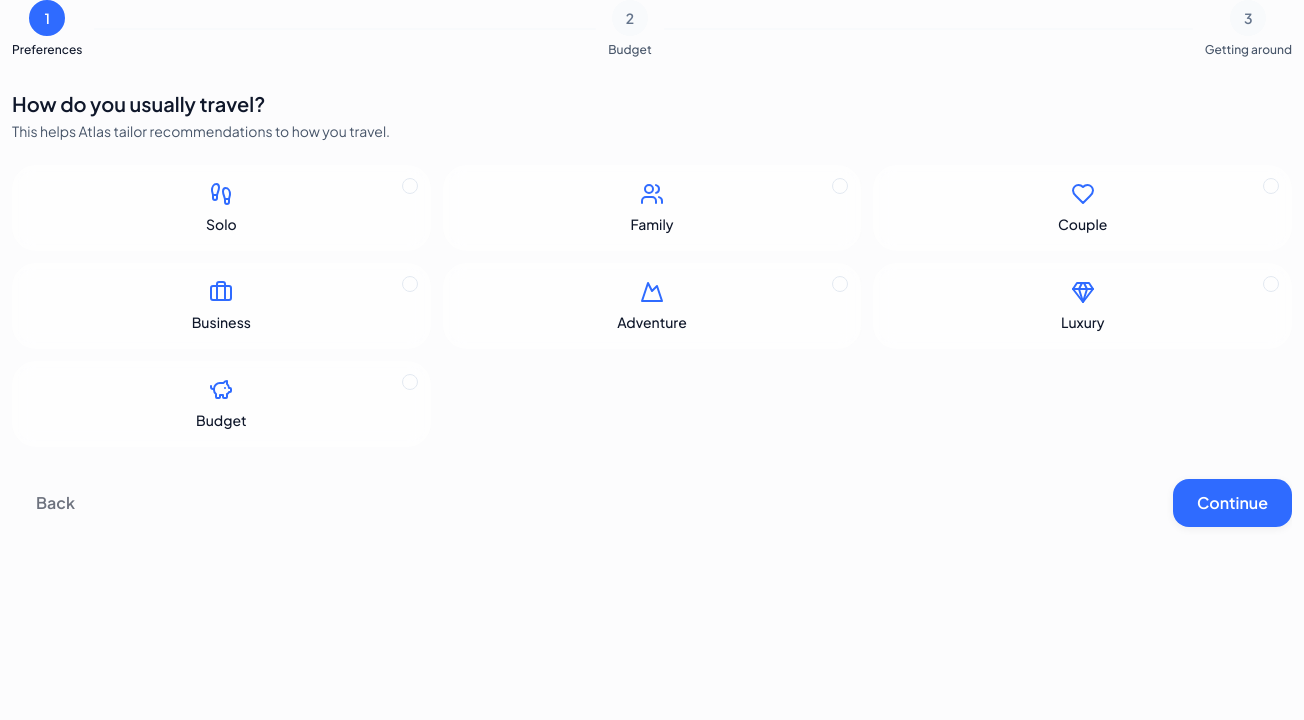
Test: ProfileWizard › saves the selection and advances to the Budget step on Continue
Expected: the heading "How do you usually travel?" is shown, [12,91,265,116]
Click the radio button labelled "Adventure": (652, 306) [443,263,861,349]
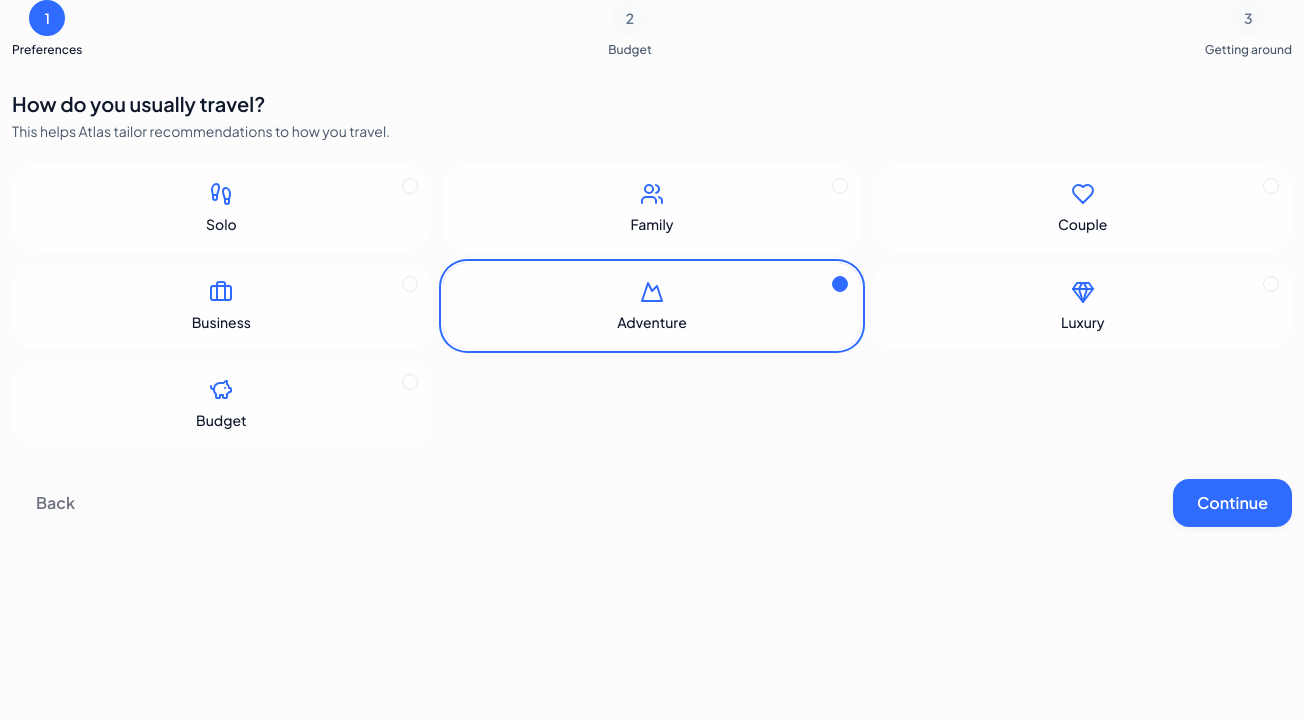
Click the button "Continue": (1232, 503) [1173,479,1292,527]
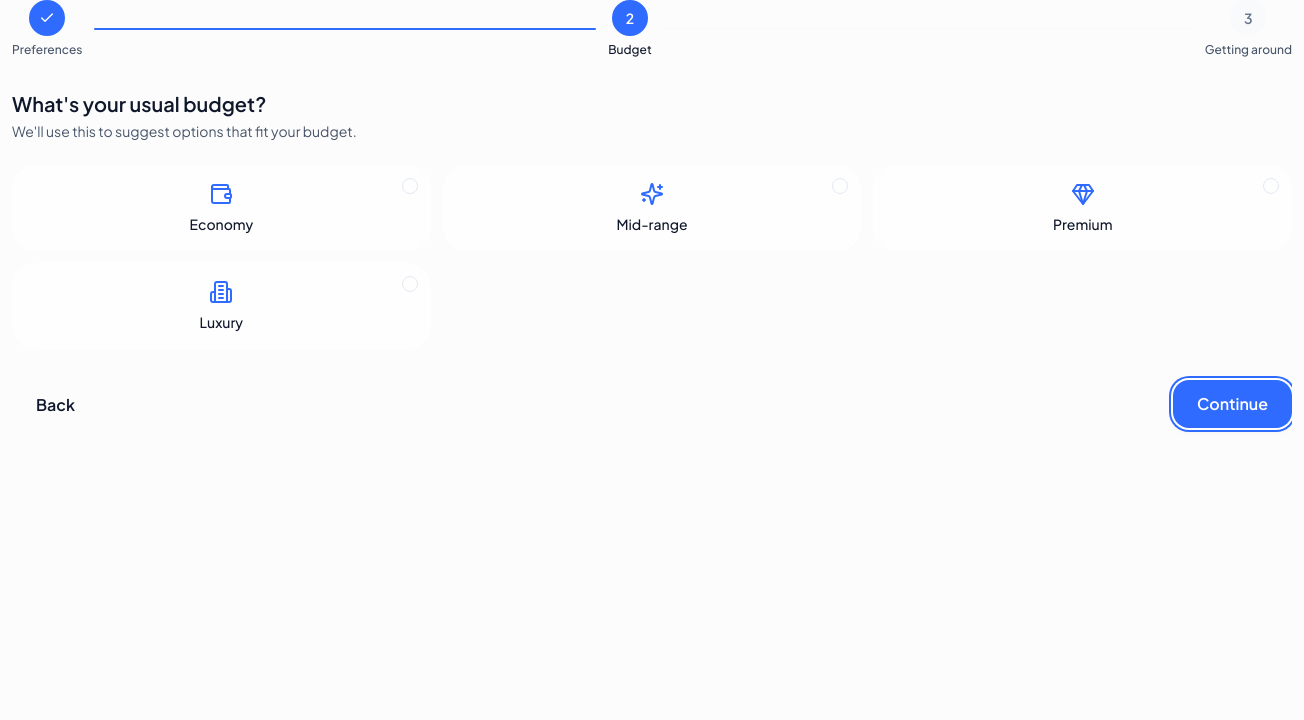
Now the heading "What's your usual budget?" is shown, box [12,91,266,116]
